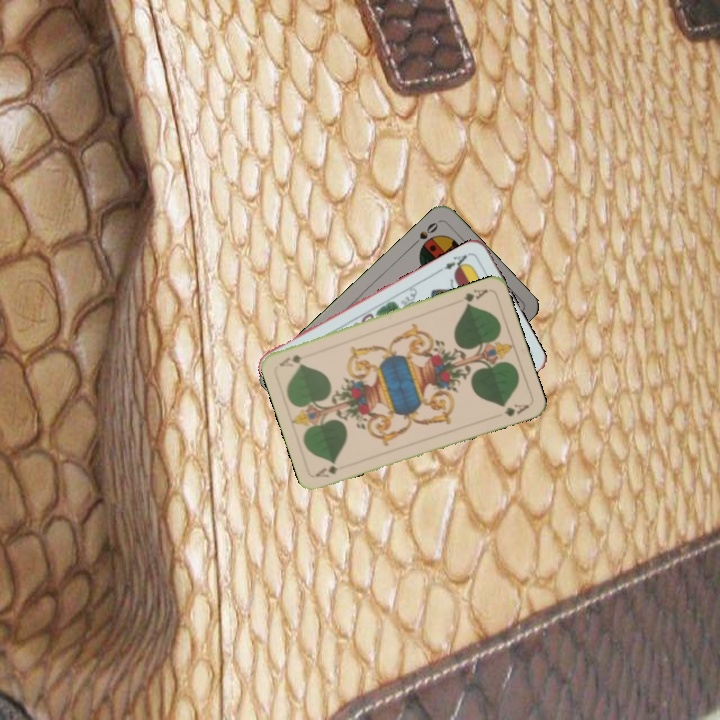EA: (435, 249, 473, 275)
GA: (312, 460, 351, 480), (460, 285, 490, 308)
SO: (409, 218, 441, 248)
